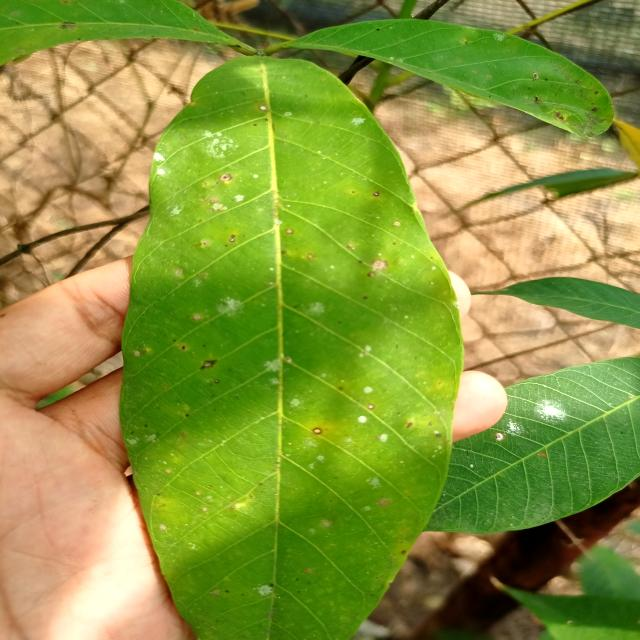Colletotrichum: (312, 428, 322, 434), (285, 229, 294, 235), (367, 404, 375, 410), (214, 379, 220, 383), (401, 550, 406, 554), (374, 192, 379, 196), (230, 238, 234, 242)
